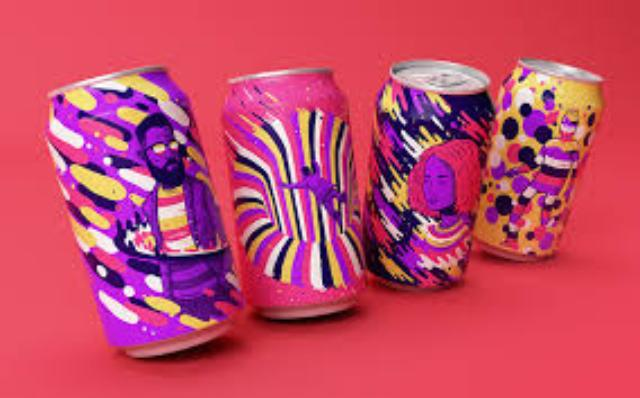metal: (47, 65, 241, 354), (221, 68, 363, 318), (365, 61, 494, 286), (473, 59, 602, 259)
